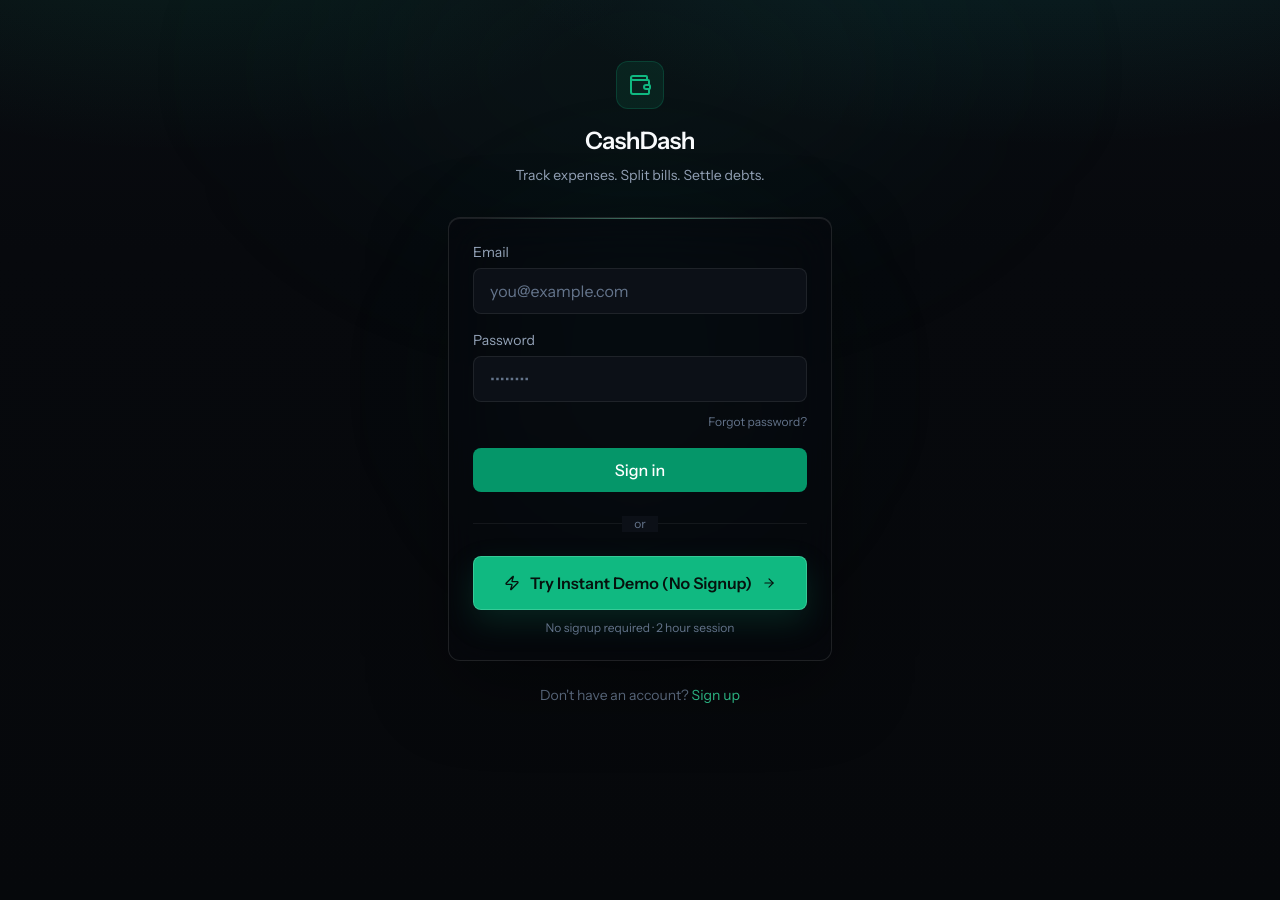
it: LoginPage › displays error message on failed login
The width and height of the screenshot is (1280, 900).
Type "test@example.com" into the field with placeholder "you@example.com" at (640, 290), box [473, 268, 807, 314]
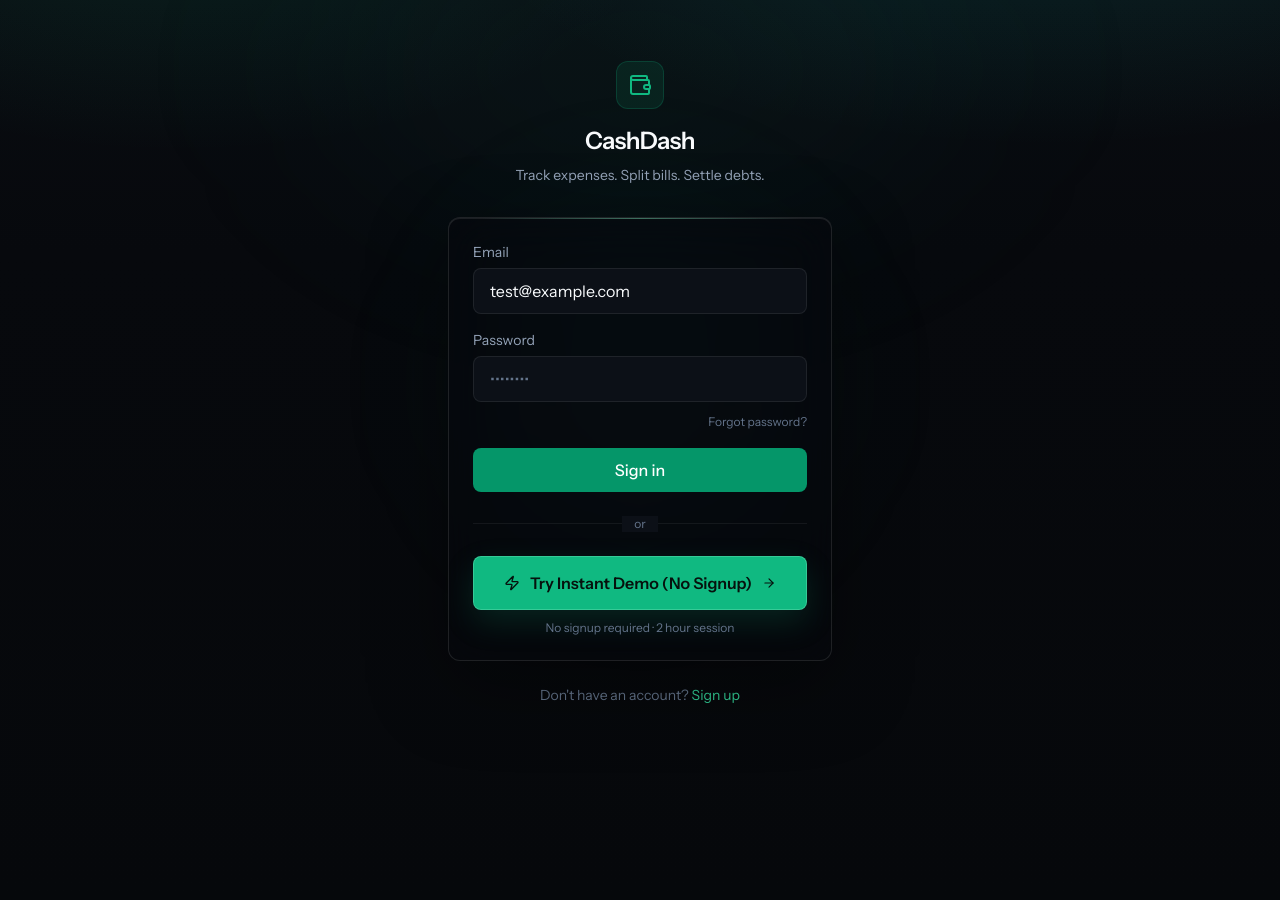
Type "wrongpassword" into the password field with placeholder "••••••••" at (640, 378), box [473, 356, 807, 402]
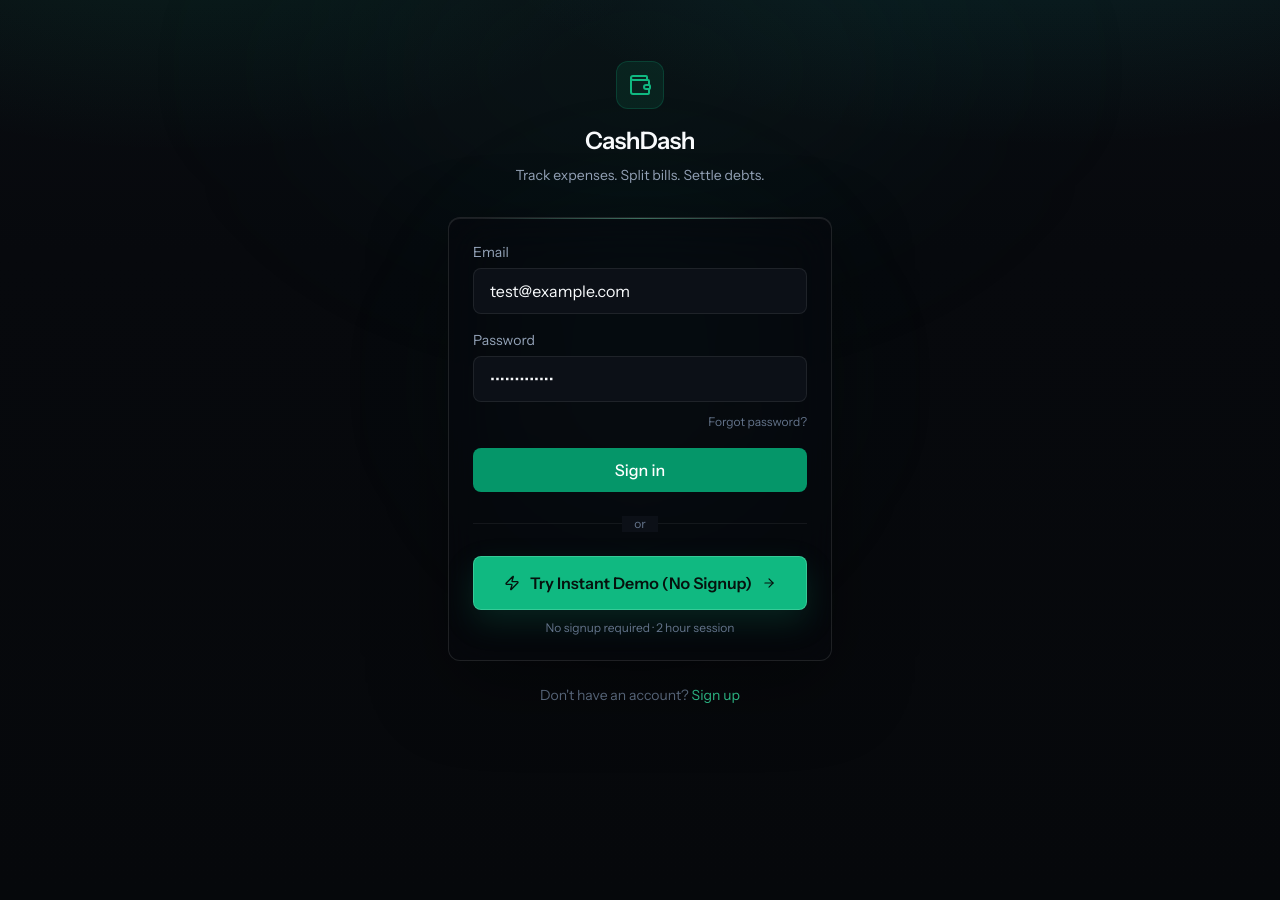
Click the button "Sign in" at (640, 470), box [473, 448, 807, 492]
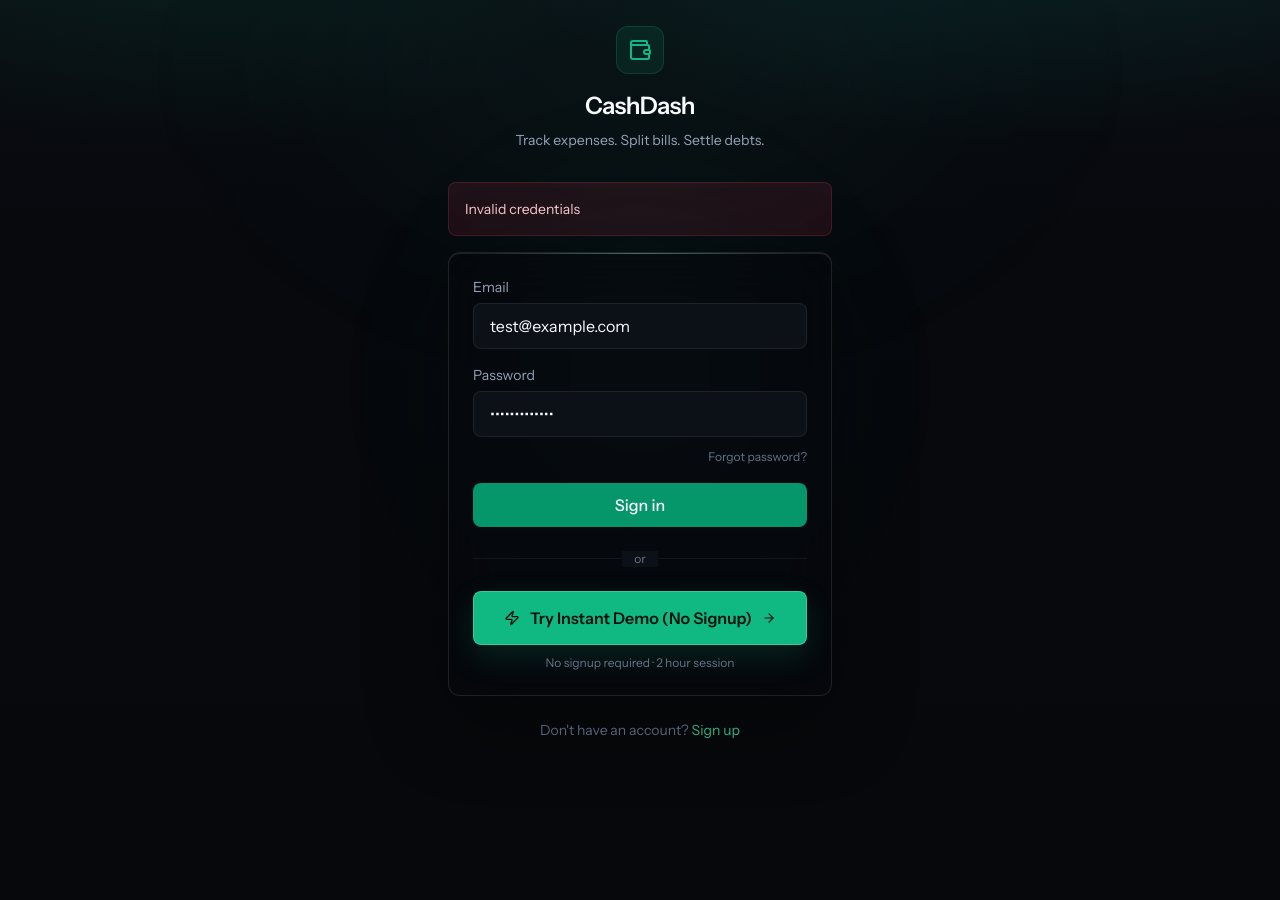
Check: the text "Invalid credentials" is shown, box [465, 198, 580, 218]
